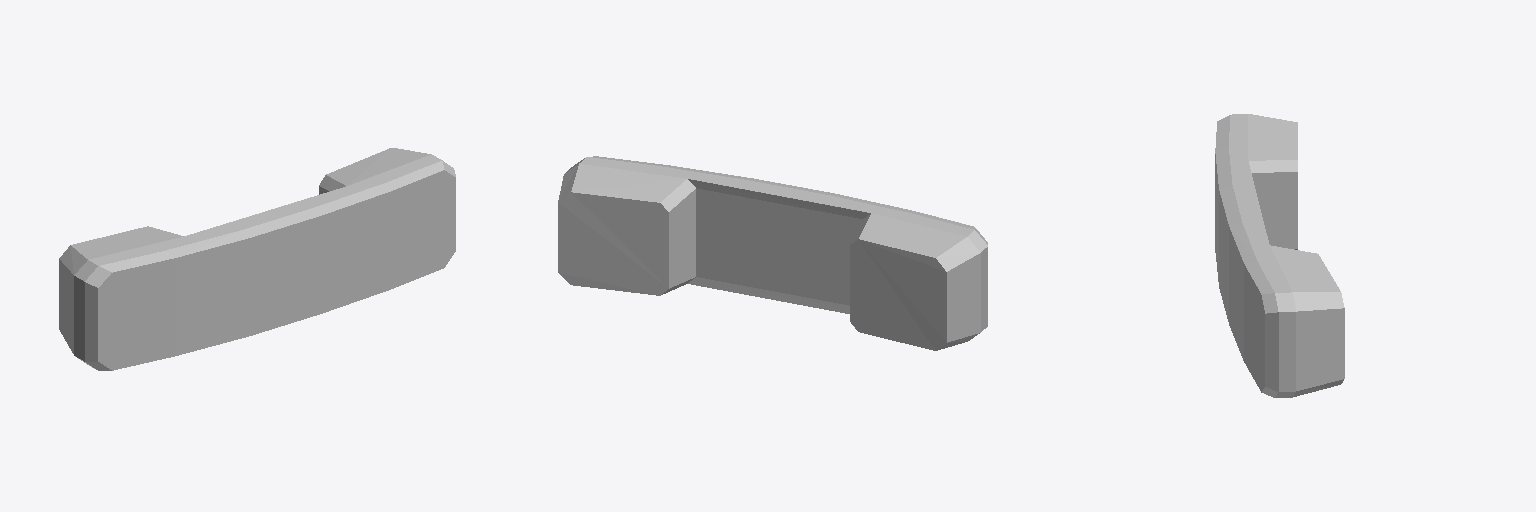
File: phone_p2.obj
3 renders of one model, left to right at view 1: azimuth 30°, elevation 25°; view 2: azimuth 150°, elevation 25°; view 3: azimuth 270°, elevation 25°, orthographic.
Visible parts, largest first — view 1: phone_p2; view 2: phone_p2; view 3: phone_p2.
Boxes of the visible parts, <box> form: phone_p2: <box>59,148,455,370</box>; phone_p2: <box>558,156,987,350</box>; phone_p2: <box>1215,114,1344,397</box>.
Bounding box in the file's own units: 10.17 × 2.59 × 2.89.